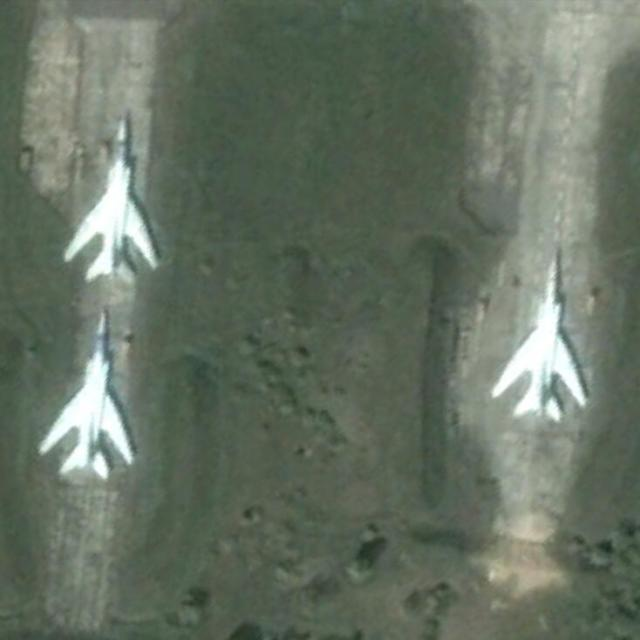fighter jet: (493, 252, 586, 424), (46, 322, 140, 488), (64, 115, 154, 274)
